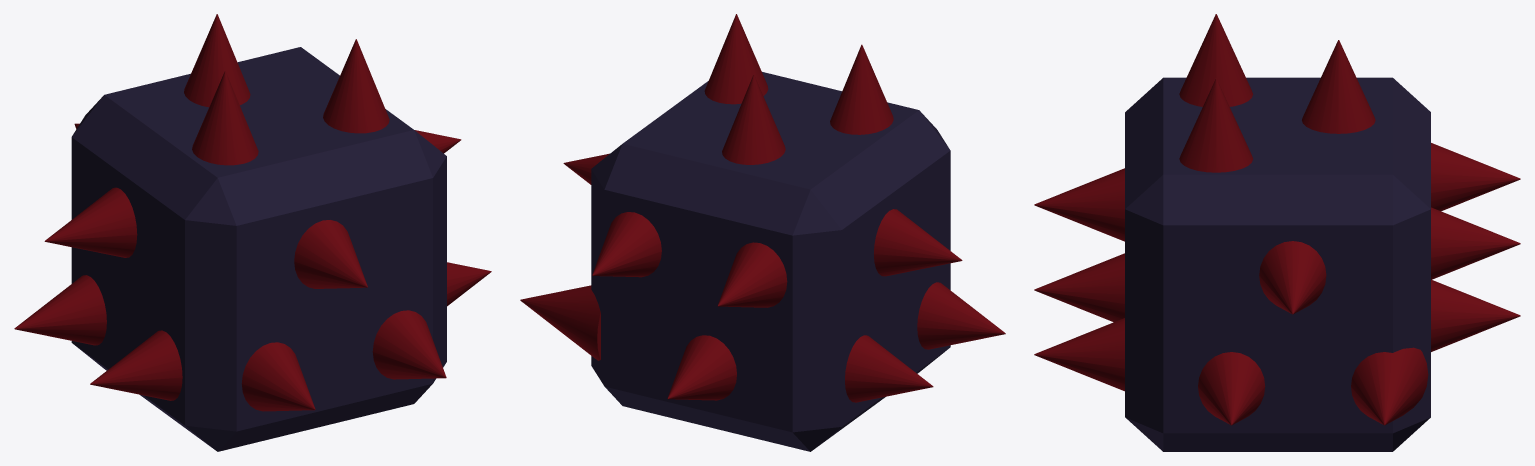
The model's file is Spike.fbx.
3 views of the same model, side by side, from view 1: azimuth 30°, elevation 25°; view 2: azimuth 150°, elevation 25°; view 3: azimuth 270°, elevation 25° (orthographic). The views are drawn at different scales.
Parts seen in each view (by area): view 1: mergedBlocks; view 2: mergedBlocks; view 3: mergedBlocks.
Part boxes in pixels (left/top/right/bottom): mergedBlocks: left=14, top=14, right=491, bottom=451; mergedBlocks: left=520, top=14, right=1005, bottom=451; mergedBlocks: left=1034, top=14, right=1520, bottom=451.
Size of the model in its own units: 15.89 by 12.89 by 15.89.
